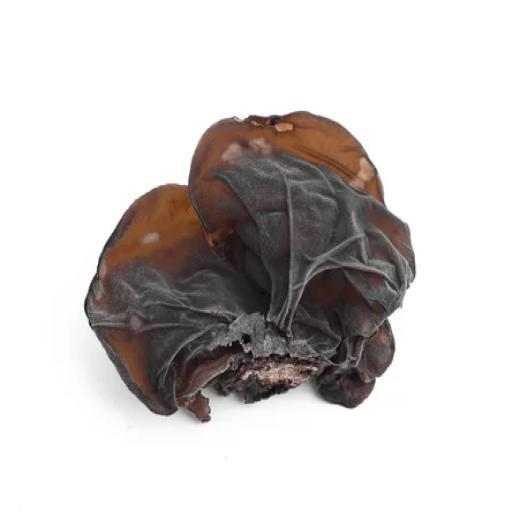mushroom: (81, 100, 418, 443)
